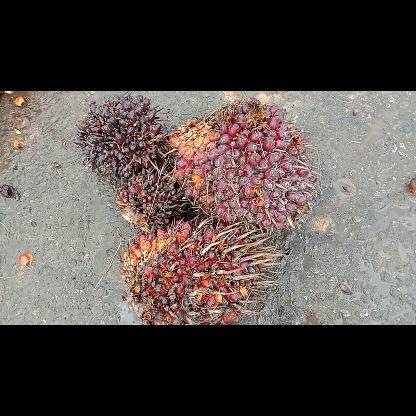TBS abnormal: (70, 93, 168, 180), (113, 166, 191, 233)
TBS masak: (165, 96, 323, 230), (119, 218, 289, 324)
